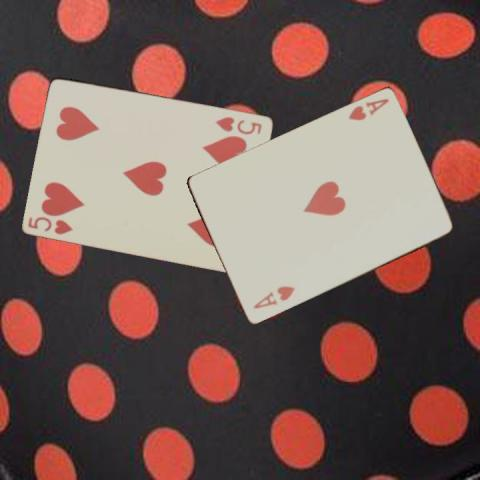5h: (213, 113, 263, 136), (26, 213, 76, 236)
Ah: (250, 283, 297, 311), (345, 95, 391, 123)
